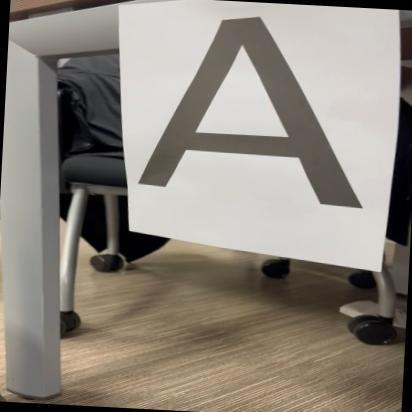seat: (122, 1, 392, 218)
